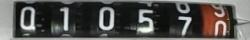digits: (203, 4, 228, 38), (171, 1, 193, 37), (136, 8, 155, 33), (98, 7, 115, 30), (20, 6, 36, 30), (59, 7, 69, 30)
